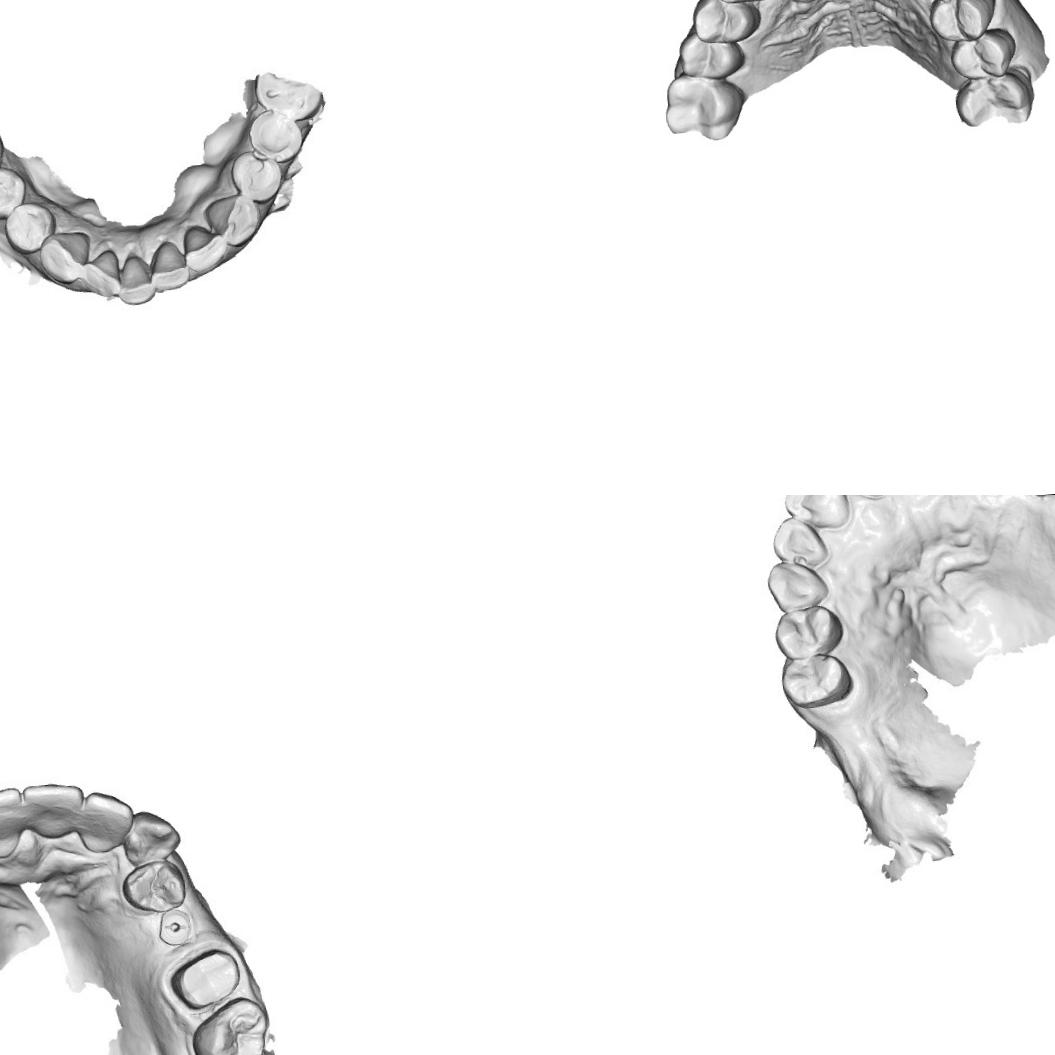canine: (759, 555, 831, 614), (118, 806, 182, 870), (201, 191, 260, 249), (36, 229, 94, 286)
crown: (174, 946, 236, 1008)
implant_minus: (151, 907, 193, 945)
incisor: (16, 778, 90, 844), (76, 786, 138, 848), (770, 516, 827, 570), (180, 222, 229, 274), (147, 239, 190, 291), (114, 253, 156, 306), (783, 495, 849, 528), (0, 784, 27, 860), (80, 248, 120, 299)
molar: (660, 64, 746, 146), (950, 63, 1036, 128), (185, 994, 273, 1055), (252, 64, 326, 124)
premolar: (776, 651, 850, 710), (946, 24, 1018, 81), (675, 25, 746, 82), (119, 856, 184, 912), (245, 104, 304, 165), (688, 0, 763, 46), (772, 605, 836, 658), (228, 148, 284, 207), (925, 0, 998, 45), (1, 200, 58, 256), (0, 163, 28, 221)
